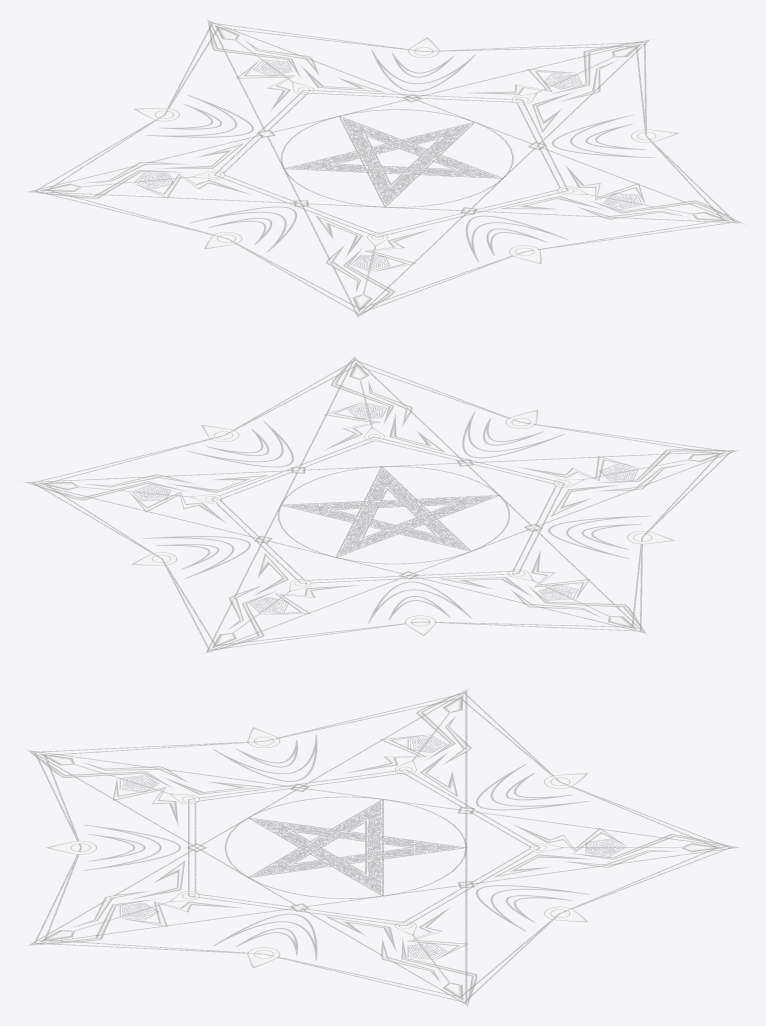
Rendered from si_hex_1102.glb.
3 views of the same model, one above another, from view 1: azimuth 30°, elevation 25°; view 2: azimuth 150°, elevation 25°; view 3: azimuth 270°, elevation 25° (orthographic). The views are drawn at different scales.
Parts seen in each view (by area): view 1: layer_03_si_hex_1100, layer_01_si_eos_1003, layer_02_si_hex_1100, layer_00_si_eos_1003; view 2: layer_03_si_hex_1100, layer_01_si_eos_1003, layer_02_si_hex_1100, layer_00_si_eos_1003; view 3: layer_03_si_hex_1100, layer_01_si_eos_1003, layer_02_si_hex_1100, layer_00_si_eos_1003.
Part boxes in pixels (bbox=[...]): layer_03_si_hex_1100: bbox=[33, 21, 740, 316]; layer_01_si_eos_1003: bbox=[29, 20, 741, 316]; layer_02_si_hex_1100: bbox=[292, 119, 494, 203]; layer_00_si_eos_1003: bbox=[283, 116, 503, 207]; layer_03_si_hex_1100: bbox=[29, 357, 731, 651]; layer_01_si_eos_1003: bbox=[26, 357, 736, 652]; layer_02_si_hex_1100: bbox=[288, 470, 492, 554]; layer_00_si_eos_1003: bbox=[280, 466, 499, 557]; layer_03_si_hex_1100: bbox=[29, 691, 733, 1005]; layer_01_si_eos_1003: bbox=[28, 690, 737, 1004]; layer_02_si_hex_1100: bbox=[255, 802, 457, 892]; layer_00_si_eos_1003: bbox=[247, 799, 466, 896].
Size of the model in its own units: 82742 by 0.00597 by 79045.
Materials: 2 (2 with a texture image).
